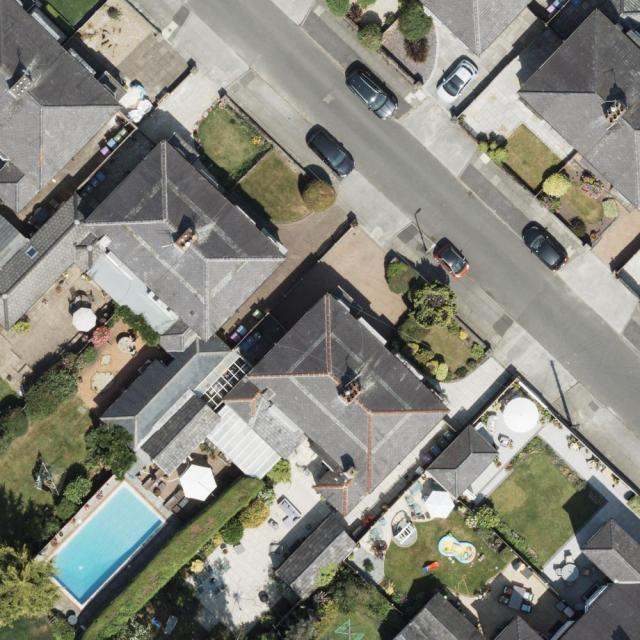roof: (0, 138, 454, 518), (0, 0, 126, 215), (516, 8, 640, 212), (558, 518, 640, 640), (274, 514, 360, 602), (417, 0, 536, 59), (426, 425, 500, 500), (398, 592, 489, 640), (494, 615, 547, 640)
skylight: (201, 356, 254, 412), (23, 244, 40, 260)
